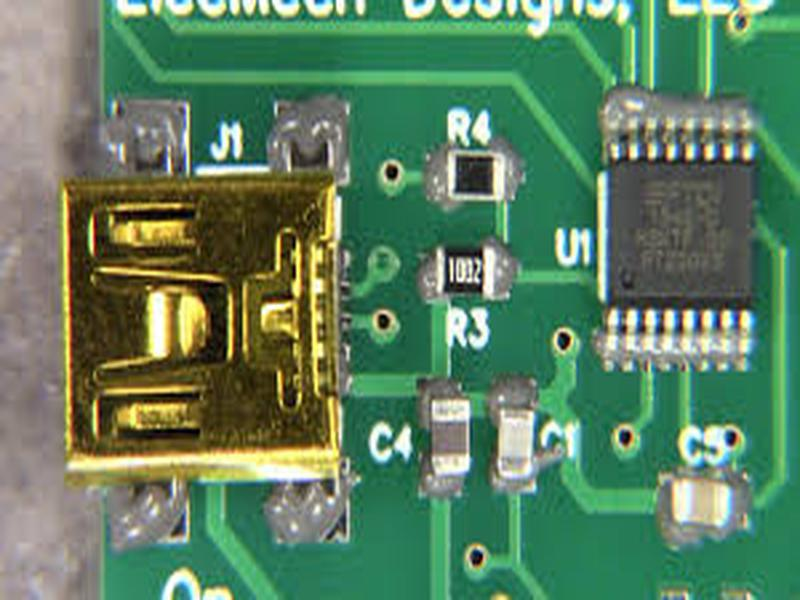SMD capacitor: (666, 474, 739, 535), (430, 397, 469, 480), (497, 402, 534, 489)
SMD resistor: (436, 240, 500, 306), (448, 142, 509, 208)
